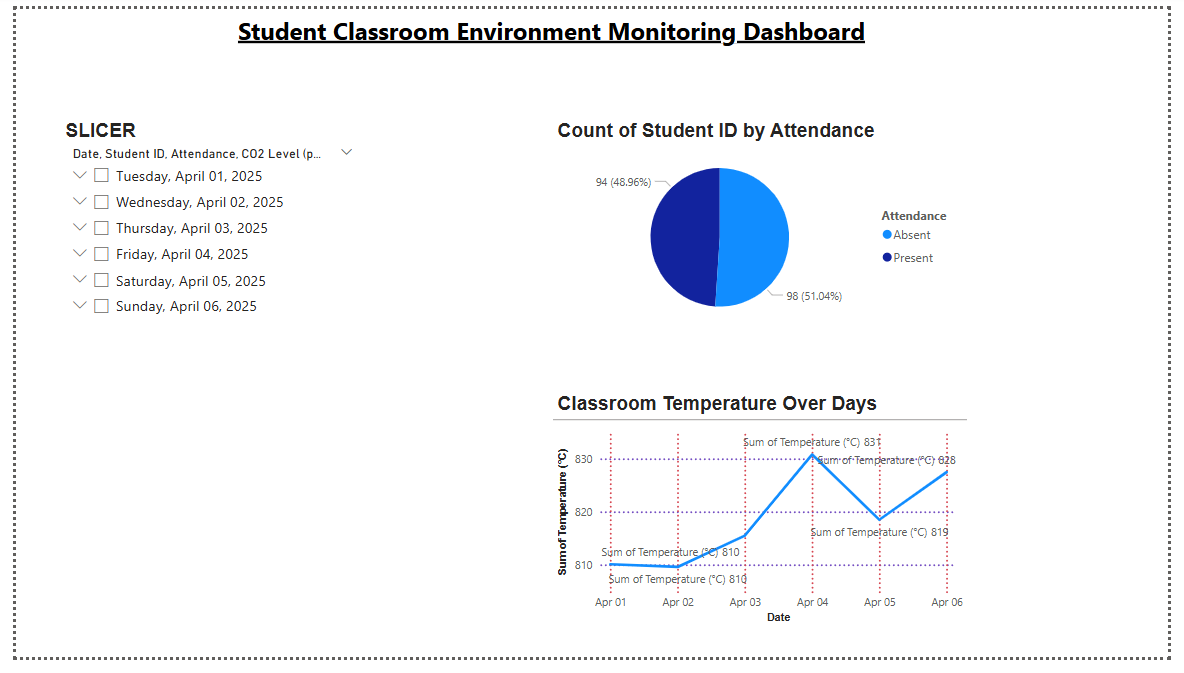

What the dashboard file says about the page in this screenshot:
{"tool":"powerbi","page":{"name":"Page 1","canvas":[1280,720],"ordinal":0},"visuals":[{"type":"textbox","box":[10,0,1170,58],"z":0},{"type":"pieChart","fields":{"Category":["Sheet1.Attendance"],"Y":["CountNonNull(Sheet1.Student ID)"]},"box":[596,124,460,236],"z":1000},{"type":"lineChart","title":"Classroom Temperature Over Days","fields":{"Y":["Sum(Sheet1.Temperature (°C))"],"Category":["Sheet1.Date"]},"box":[596,426,460,260],"z":2000},{"type":"slicer","title":"SLICER","fields":{"Values":["Sheet1.Date","Sheet1.Student ID","Sheet1.Attendance","Sheet1.CO2 Level (ppm)"]},"box":[50,124,336,274],"z":3000}]}

Visuals, with their boxes in screenshot pixels (x1, y1, x2, y2), scaled from the page's 1280x720 canvas onto the 1184x673 screenshot:
textbox: [left=9, top=0, right=1092, bottom=54]
pieChart - Sheet1.Attendance x CountNonNull(Sheet1.Student ID): [left=551, top=116, right=977, bottom=336]
"Classroom Temperature Over Days" lineChart: [left=551, top=398, right=977, bottom=641]
"SLICER" slicer: [left=46, top=116, right=357, bottom=372]
